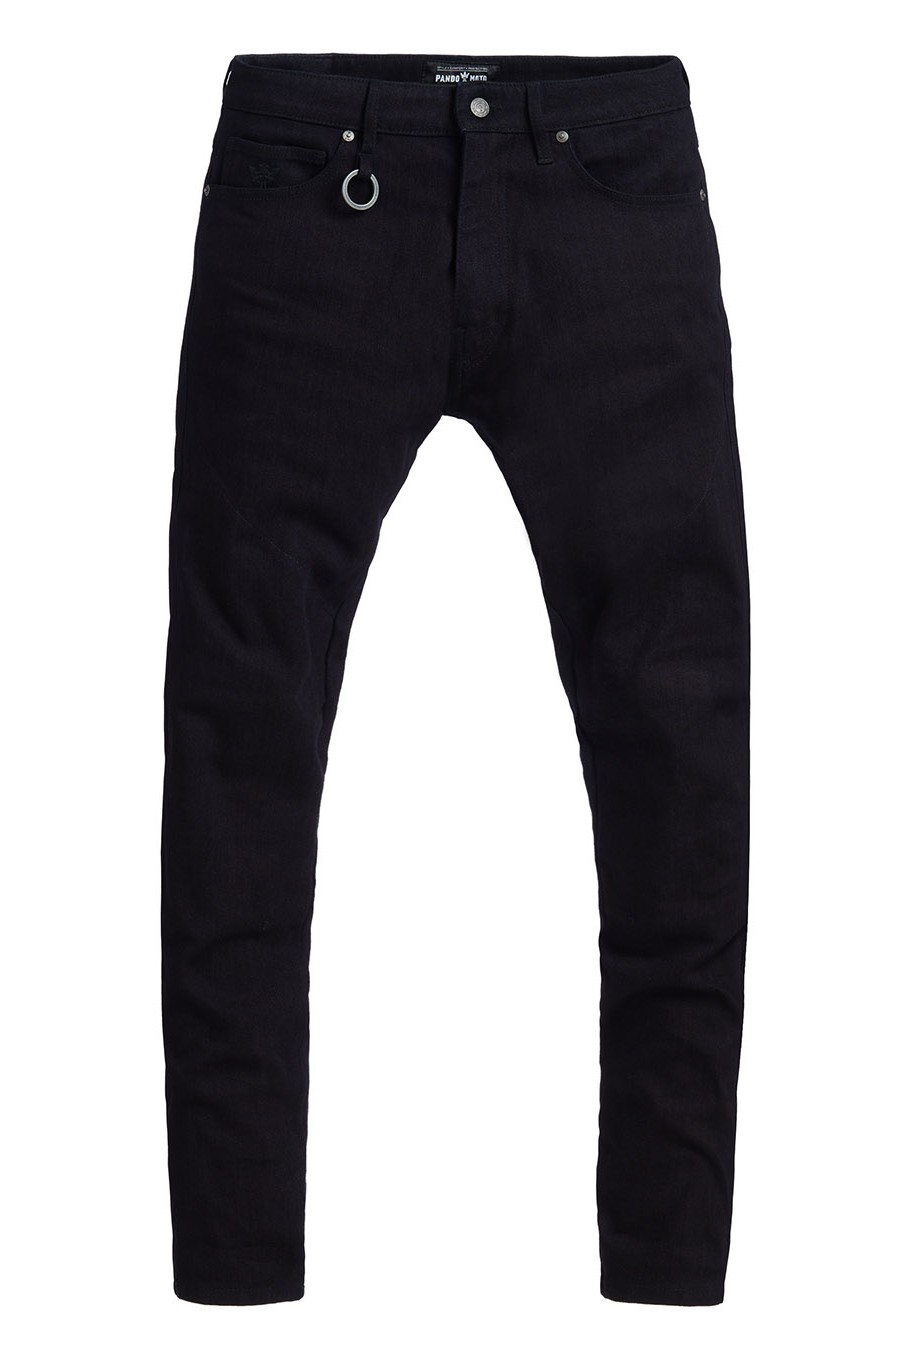jeans: (103, 41, 818, 1321)
